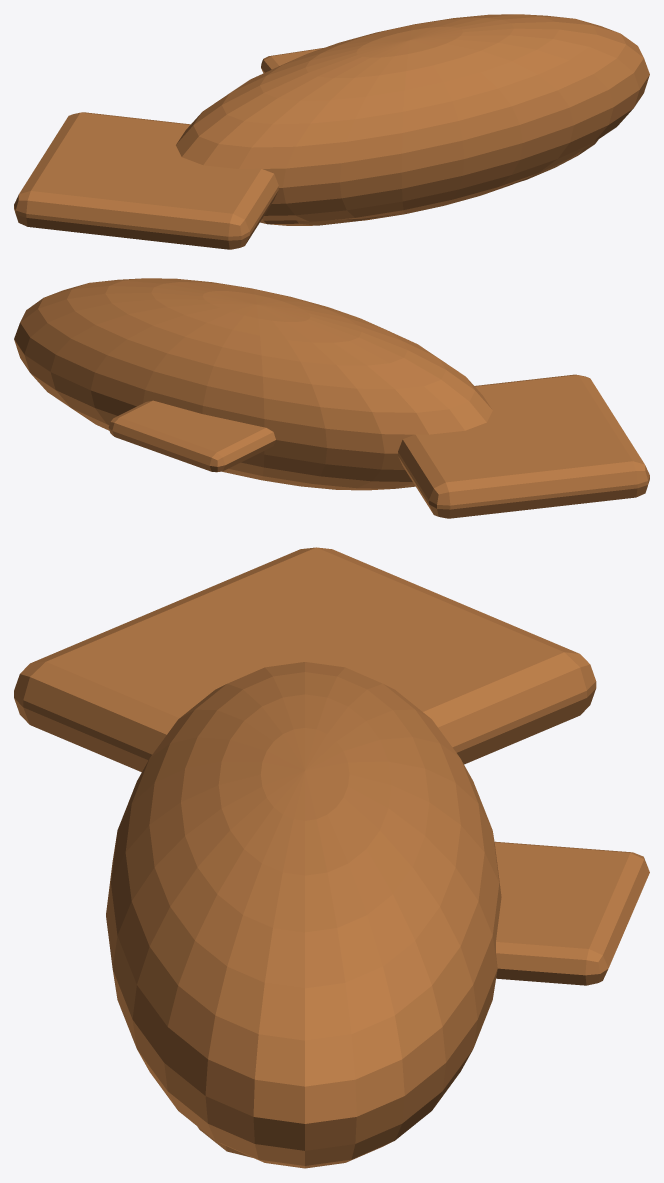
The model's file is cooked_fish.glb.
3 renders of one model, top to bottom at view 1: azimuth 30°, elevation 25°; view 2: azimuth 150°, elevation 25°; view 3: azimuth 270°, elevation 25°, orthographic. The views are drawn at different scales.
Visible parts, largest first — view 1: Fish_Body, Fish_Tail, Fish_Belly, Dorsal_Fin; view 2: Fish_Body, Fish_Tail, Dorsal_Fin; view 3: Fish_Body, Fish_Tail, Dorsal_Fin.
Part boxes in pixels (x1=…): Fish_Body: x1=176, y1=14, x2=649, y2=221; Fish_Tail: x1=14, y1=112, x2=278, y2=249; Fish_Belly: x1=260, y1=139, x2=598, y2=225; Dorsal_Fin: x1=261, y1=48, x2=322, y2=73; Fish_Body: x1=14, y1=278, x2=492, y2=490; Fish_Tail: x1=398, y1=374, x2=649, y2=518; Dorsal_Fin: x1=108, y1=400, x2=275, y2=472; Fish_Body: x1=106, y1=662, x2=501, y2=1168; Fish_Tail: x1=14, y1=547, x2=596, y2=772; Dorsal_Fin: x1=494, y1=841, x2=649, y2=985.
Bounding box in the file's own units: 1.66 × 0.4 × 0.798.
